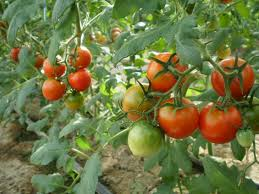tomato: (198, 101, 241, 145), (159, 97, 199, 140), (212, 57, 251, 97), (149, 55, 187, 90), (125, 85, 159, 121), (68, 47, 91, 70), (42, 78, 66, 100), (43, 56, 66, 78), (67, 70, 91, 90)
